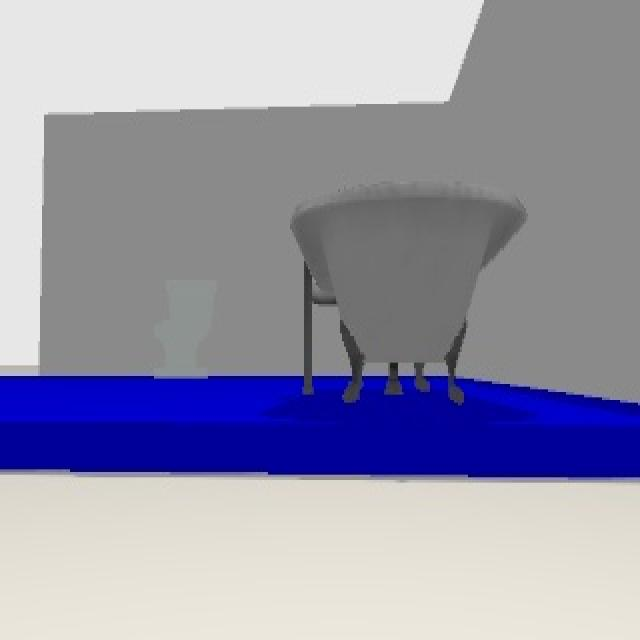bathtub: (290, 181, 528, 405)
